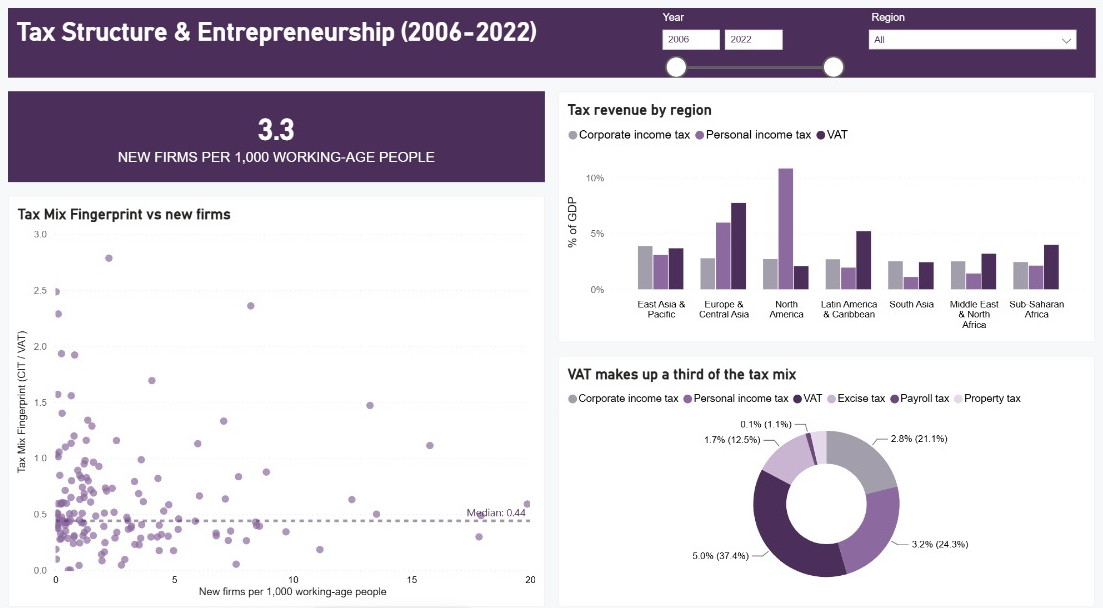

The page's visual inventory and layout, read from the dashboard file:
{"tool":"powerbi","page":{"name":"Tax & Entrepreneurship","canvas":[1280,720],"ordinal":1},"visuals":[{"type":"textbox","box":[16,16,1248,80],"z":0},{"type":"scatterChart","title":"Tax Mix Fingerprint vs new firms","fields":{"Category":["Sheet1 (2).ID_Country","Sheet1 (2).ID_Year"],"X":["Avg(Sheet1 (2).ENTRY_Density)"],"Y":["Avg(Sheet1 (2).TAX_Mix_Fingerprint)"]},"box":[16,232,616,472],"z":1000},{"type":"clusteredColumnChart","title":"Tax revenue by region","fields":{"Category":["Sheet1.Region"],"Y":["Avg(Sheet1.CIT_Total)","Avg(Sheet1.PIT_Total)","Avg(Sheet1.VAT_Total)"]},"box":[648,112,616,288],"z":2000},{"type":"donutChart","title":"VAT makes up a third of the tax mix","fields":{"Y":["Avg(Sheet1.CIT_Total)","Avg(Sheet1.PIT_Total)","Avg(Sheet1.VAT_Total)","Avg(Sheet1.EXCISE_Tax)","Avg(Sheet1.PAYROLL_Tax)","Avg(Sheet1.PROPERTY_Tax)"]},"box":[648,416,616,288],"z":3000},{"type":"card","fields":{"Values":["Avg(Sheet1.ENTRY_Density)"]},"box":[16,112,616,104],"z":4000},{"type":"slicer","fields":{"Values":["Sheet1.Region"]},"box":[1000,20,248,76],"z":6500},{"type":"slicer","fields":{"Values":["Sheet1 (2).ID_Year"]},"box":[760,20,220,76],"z":7000}]}

Visuals, with their boxes in screenshot pixels (x1, y1, x2, y2), scaled from the page's 1280x720 canvas onto the 1103x608 screenshot:
textbox: detection(14, 14, 1089, 81)
"Tax Mix Fingerprint vs new firms" scatterChart: detection(14, 196, 545, 594)
"Tax revenue by region" clusteredColumnChart: detection(558, 95, 1089, 338)
"VAT makes up a third of the tax mix" donutChart: detection(558, 351, 1089, 594)
card - Avg(Sheet1.ENTRY_Density): detection(14, 95, 545, 182)
slicer - Sheet1.Region: detection(862, 17, 1075, 81)
slicer - Sheet1 (2).ID_Year: detection(655, 17, 844, 81)
